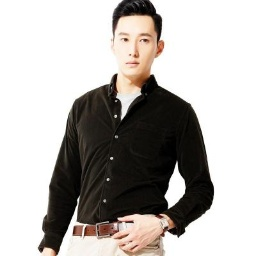face: (108, 1, 166, 78)
